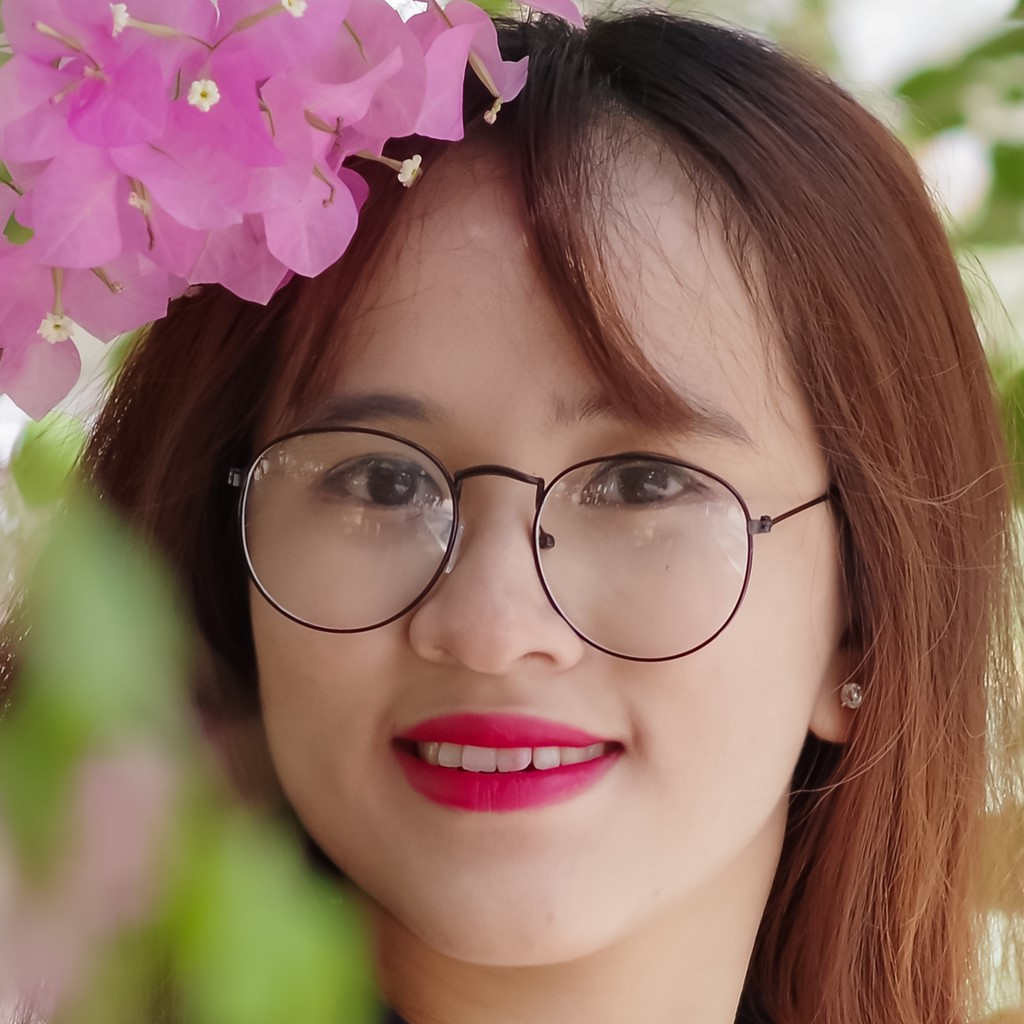sin_mascara: (246, 250, 834, 958)
